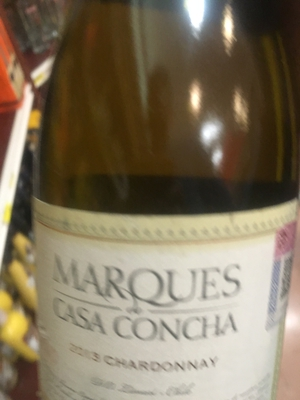marques de casa concha chardonnay: (30, 14, 295, 400)
